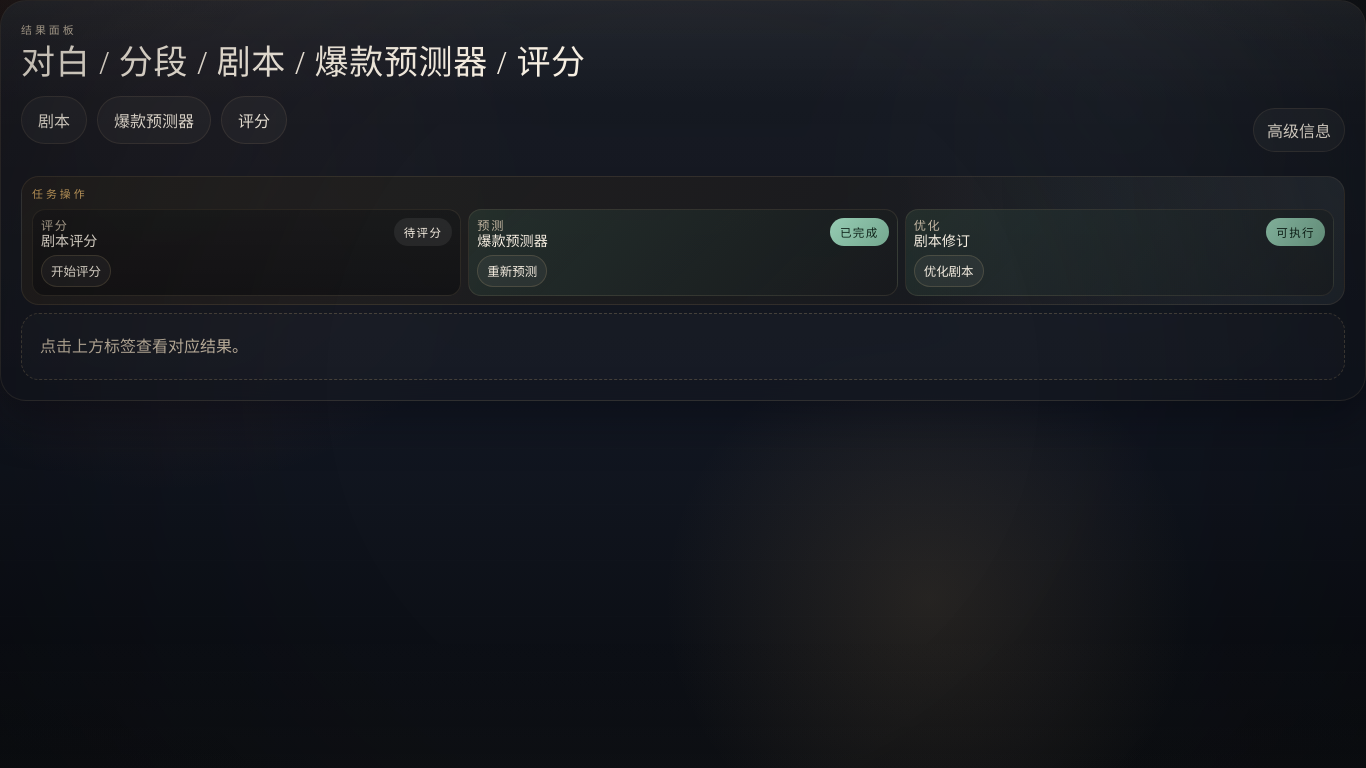
Test: renders highlight tab with best climax and highlight list
Click the tab "爆款预测器": [154, 120] box [97,96,211,144]
(page scrolled)
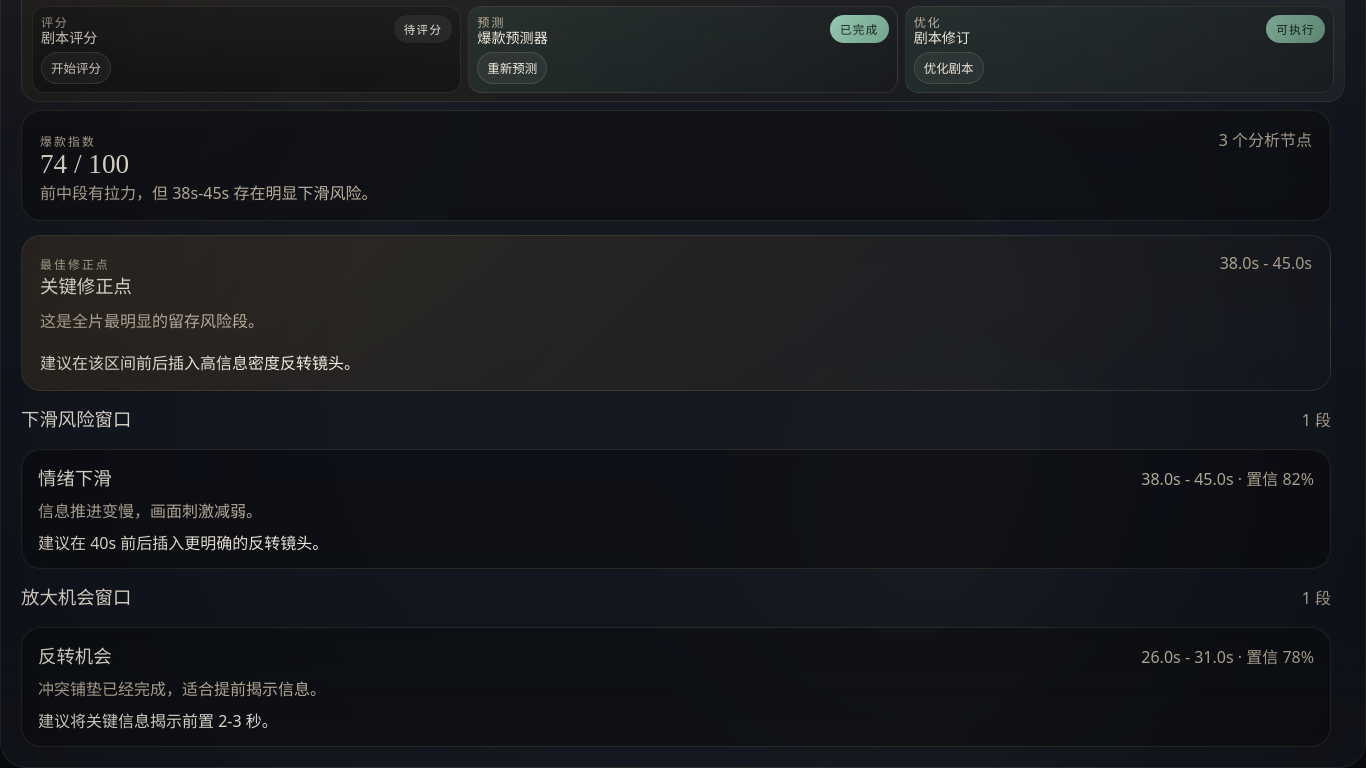
Now the text "爆款指数" is shown, box [40,133,96,149]
Now the text "最佳修正点" is shown, box [40,256,110,272]
Now the text "关键修正点" is shown, box [40,277,132,297]
